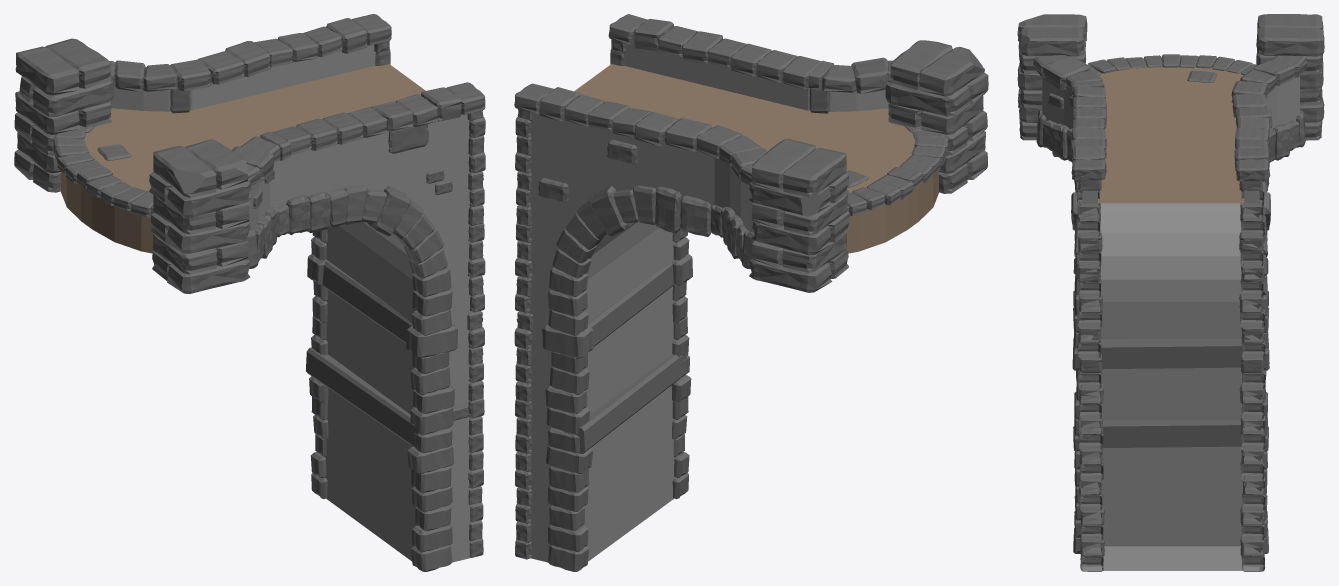
Rendered from Bridge section 5.fbx.
3 renders of one model, left to right at view 1: azimuth 30°, elevation 25°; view 2: azimuth 150°, elevation 25°; view 3: azimuth 270°, elevation 25°, orthographic. The views are drawn at different scales.
Parts seen in each view (by area): view 1: Bridge section 5; view 2: Bridge section 5; view 3: Bridge section 5.
Part boxes in pixels (bbox=[...]): Bridge section 5: bbox=[14, 14, 485, 571]; Bridge section 5: bbox=[514, 14, 988, 571]; Bridge section 5: bbox=[1017, 14, 1324, 571].
Bounding box in the file's own units: 13.43 × 17.69 × 11.72.
